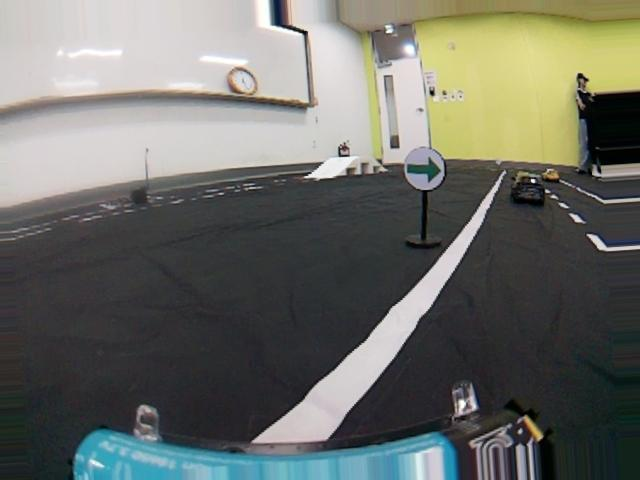car: (511, 169, 548, 218)
right: (9, 270, 640, 476)
sign_right: (399, 145, 452, 199)
